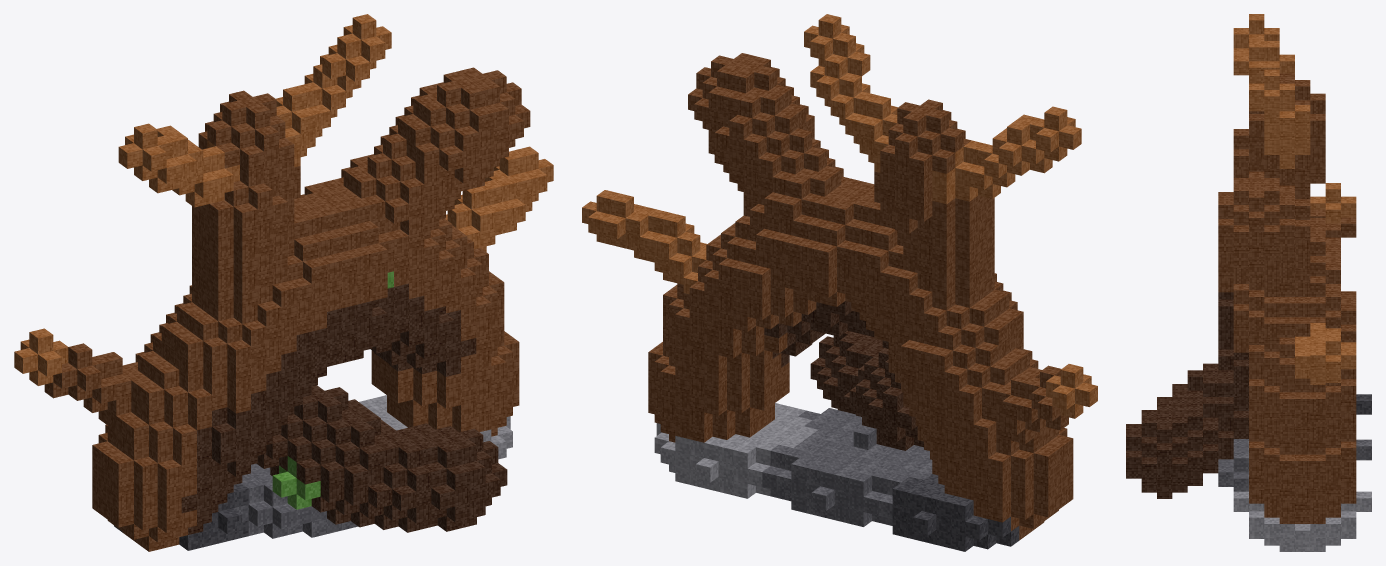
The model's file is Driftwood.gltf.
3 views of the same model, side by side, from view 1: azimuth 30°, elevation 25°; view 2: azimuth 150°, elevation 25°; view 3: azimuth 270°, elevation 25° (orthographic). The views are drawn at different scales.
Visible parts, largest first — view 1: Minecraft_Aquarium_Driftwood_Baked; view 2: Minecraft_Aquarium_Driftwood_Baked; view 3: Minecraft_Aquarium_Driftwood_Baked.
Boxes of the visible parts, x1=… form: Minecraft_Aquarium_Driftwood_Baked: x1=14, y1=14, x2=553, y2=551; Minecraft_Aquarium_Driftwood_Baked: x1=582, y1=14, x2=1097, y2=551; Minecraft_Aquarium_Driftwood_Baked: x1=1126, y1=14, x2=1371, y2=551.
Size of the model in its own units: 7 by 6.2 by 3.2.
Materials: 1 (1 with a texture image).
